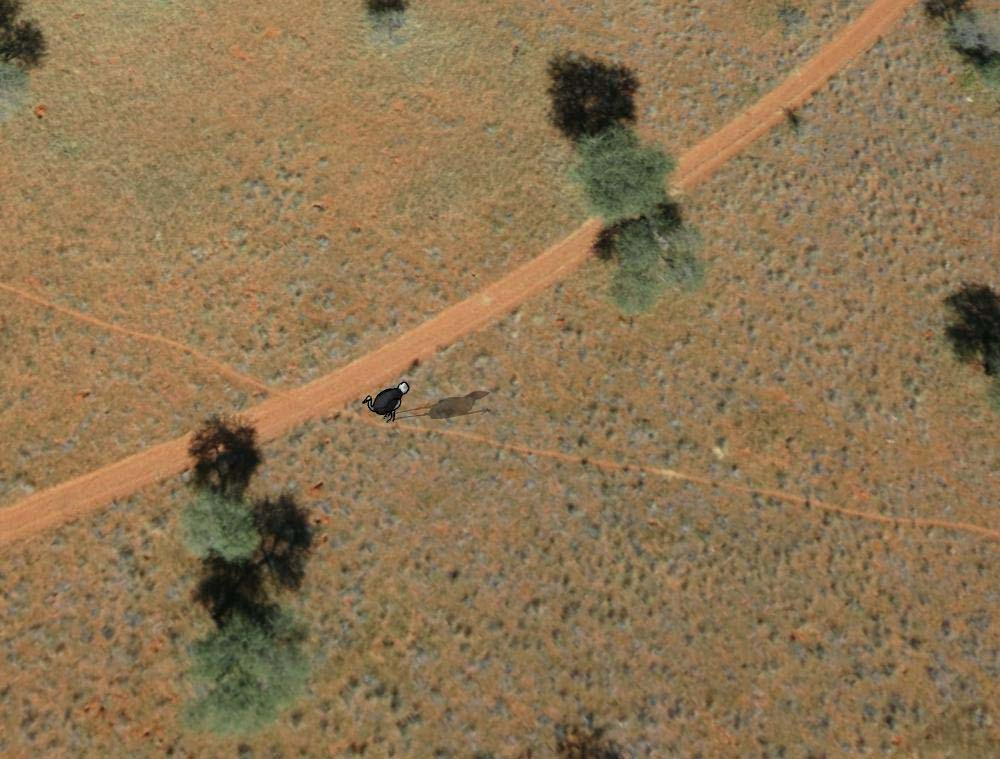springbok: (357, 378, 417, 422)
